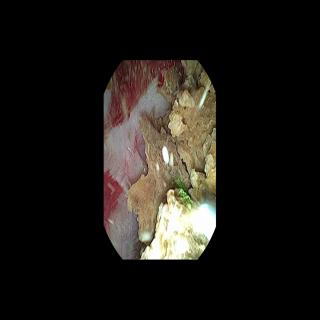laser: (177, 180, 193, 207)
stone: (127, 63, 214, 257)
